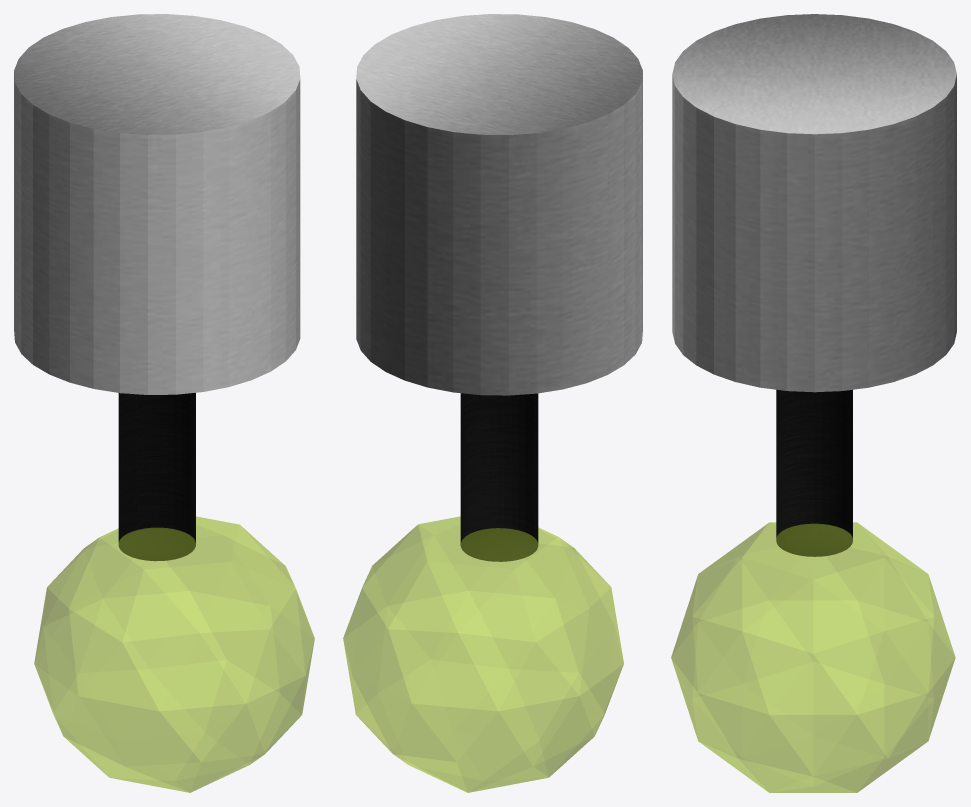
File: SandyTreedome-basementlight.glb
The picture shows the model from 3 angles, left to right: view 1: azimuth 30°, elevation 25°; view 2: azimuth 150°, elevation 25°; view 3: azimuth 270°, elevation 25°; orthographic projection.
Visible parts, largest first — view 1: basement_light_top, basement_light_lamp, basement_light_pole; view 2: basement_light_top, basement_light_lamp, basement_light_pole; view 3: basement_light_top, basement_light_lamp, basement_light_pole.
Part boxes in pixels (<box>): basement_light_top: <box>14,14,300,394</box>; basement_light_lamp: <box>34,516,314,792</box>; basement_light_pole: <box>118,392,195,561</box>; basement_light_top: <box>356,14,642,395</box>; basement_light_lamp: <box>343,516,623,792</box>; basement_light_pole: <box>460,393,538,561</box>; basement_light_top: <box>672,14,956,392</box>; basement_light_lamp: <box>671,522,955,792</box>; basement_light_pole: <box>776,389,852,556</box>.
Size of the model in its own units: 2.08 by 5.46 by 2.01.
3 materials, 3 textured.
